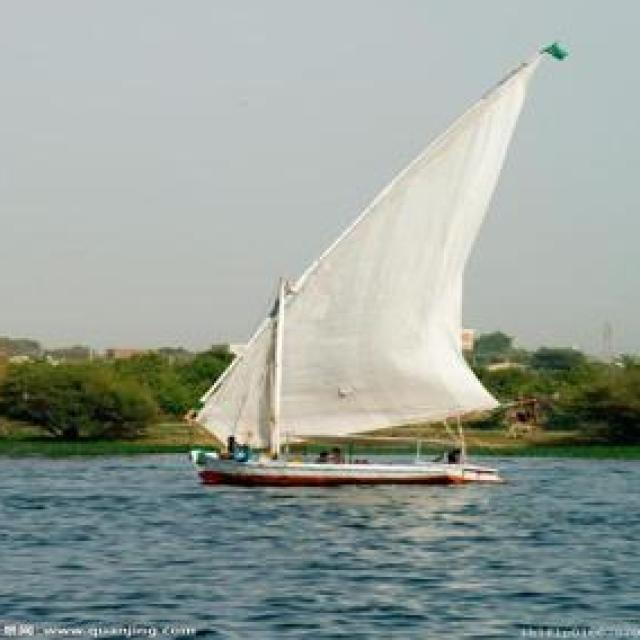sailboat: (190, 35, 556, 482)
